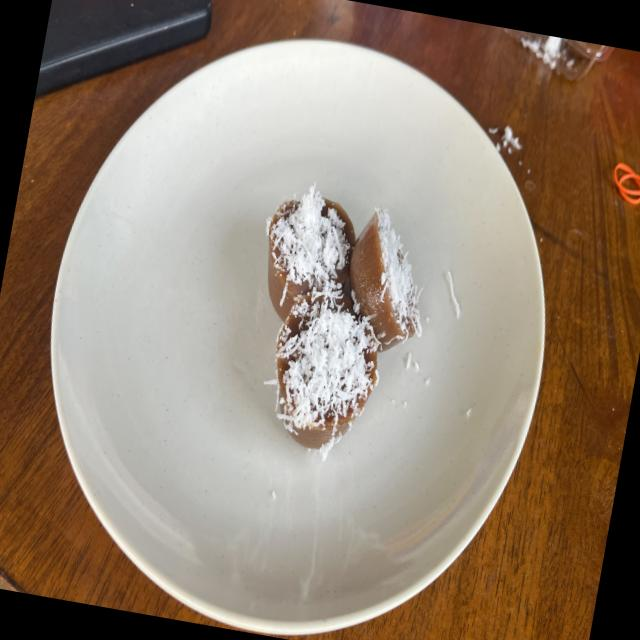Kuih lompang: (268, 288, 378, 458), (266, 184, 355, 318), (349, 208, 421, 350)
